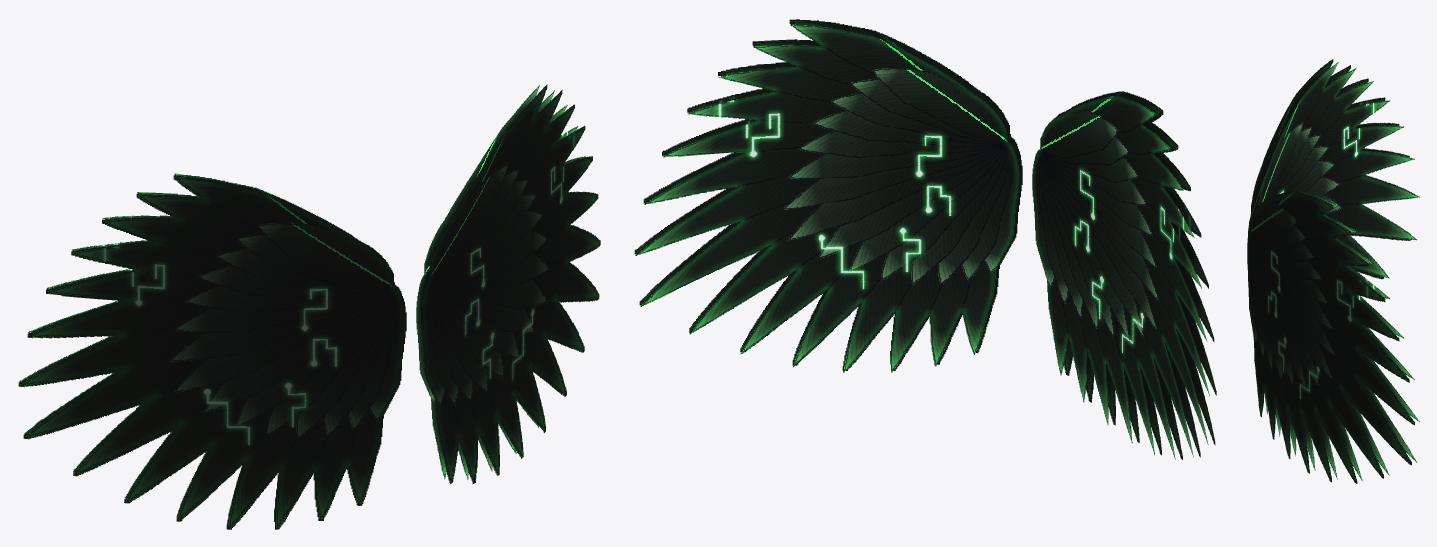
The model's file is venom_neon_wings.glb.
3 renders of one model, left to right at view 1: azimuth 30°, elevation 25°; view 2: azimuth 150°, elevation 25°; view 3: azimuth 270°, elevation 25°, orthographic. The views are drawn at different scales.
Visible parts, largest first — view 1: Venom Neon Wings Wing Right, Venom Neon Wings Wing Left; view 2: Venom Neon Wings Wing Left, Venom Neon Wings Wing Right; view 3: Venom Neon Wings Wing Left, Venom Neon Wings Wing Right.
Part boxes in pixels (box(x1,y1,x2,y2)): Venom Neon Wings Wing Right: box(18, 173, 406, 529); Venom Neon Wings Wing Left: box(416, 84, 600, 483); Venom Neon Wings Wing Left: box(634, 19, 1022, 372); Venom Neon Wings Wing Right: box(1032, 91, 1216, 459); Venom Neon Wings Wing Left: box(1247, 191, 1419, 483); Venom Neon Wings Wing Right: box(1247, 59, 1419, 279).
Bounding box in the file's own units: 1.94 × 1.14 × 0.6322.
2 materials, 2 textured.
